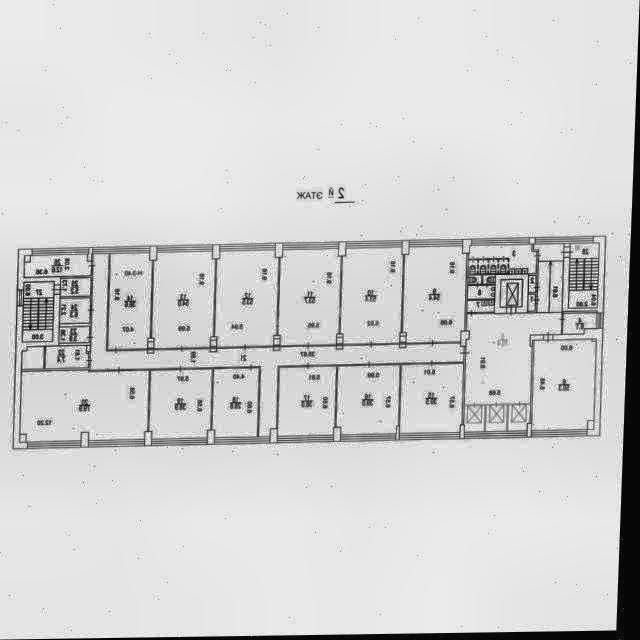room: (61, 250, 471, 482), (468, 243, 566, 408), (22, 369, 154, 443), (217, 249, 281, 350), (405, 247, 469, 346), (154, 251, 217, 350), (343, 247, 405, 347), (281, 248, 343, 348), (535, 340, 599, 434), (152, 368, 215, 441), (403, 364, 466, 436), (340, 366, 403, 437), (110, 253, 154, 351), (281, 366, 339, 438), (215, 368, 262, 439), (571, 244, 601, 311), (471, 246, 538, 276), (25, 281, 57, 343), (26, 255, 94, 277), (48, 346, 92, 369), (62, 299, 93, 324), (565, 315, 599, 336), (503, 281, 525, 309), (63, 278, 93, 297), (25, 346, 47, 370), (62, 327, 92, 343), (470, 287, 497, 301), (470, 302, 497, 314), (470, 407, 485, 425), (516, 406, 530, 424), (493, 406, 507, 424), (470, 261, 480, 276), (470, 276, 484, 286), (530, 296, 538, 313), (481, 261, 490, 276), (501, 261, 510, 275), (491, 261, 500, 275), (531, 277, 538, 295), (485, 277, 498, 285)
